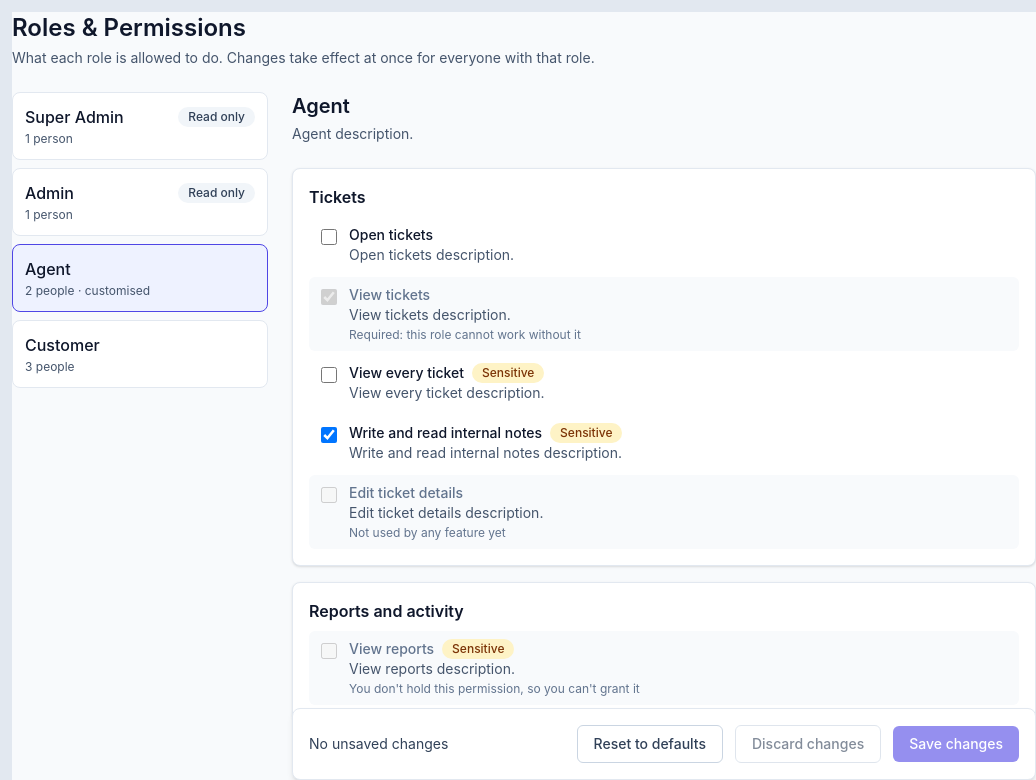
Scenario: RolesPage › never lets staff permissions be switched on for the Customer role
Expected: the heading "Agent" is shown, [292,94,350,118]
Click the button "Customer 3 people". click: point(140, 354)
box: [12,320,268,388]
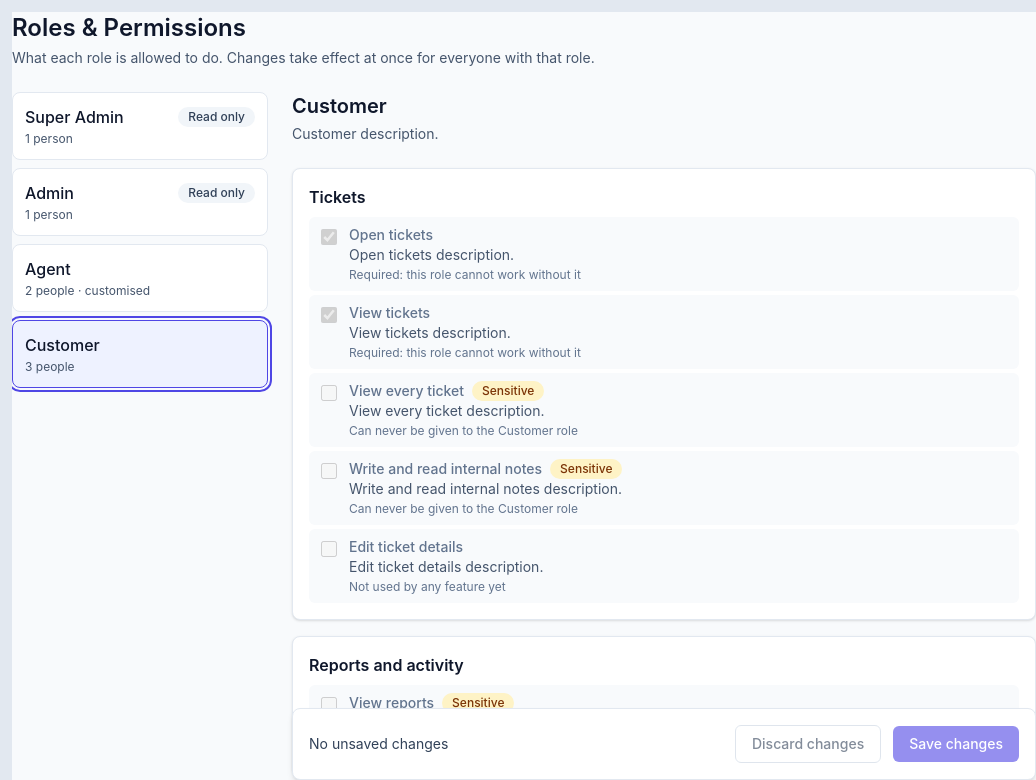
Result: the heading "Customer" is shown at [292,94,387,118]
Result: the text "Can never be given to the Customer role" below "View every ticket description." is shown at [349,423,578,438]
